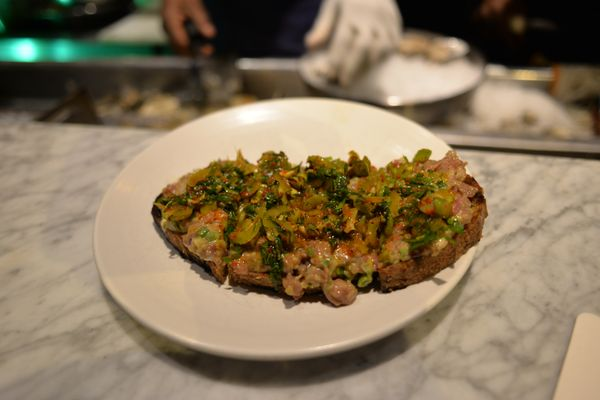curry: (1, 44, 589, 391)
sandwich: (153, 143, 490, 302)
